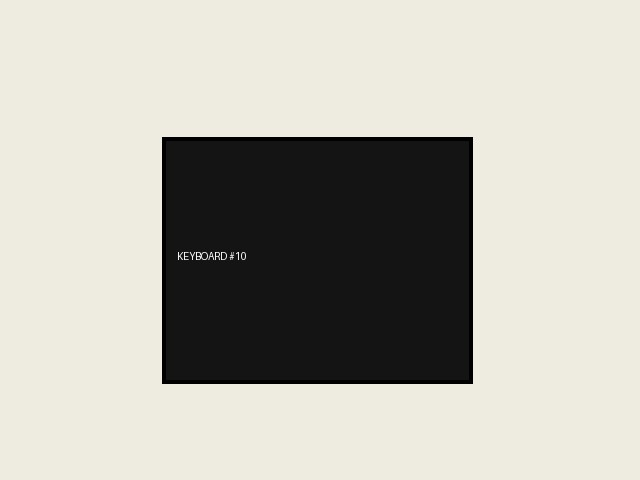keyboard: (162, 137, 472, 383)
